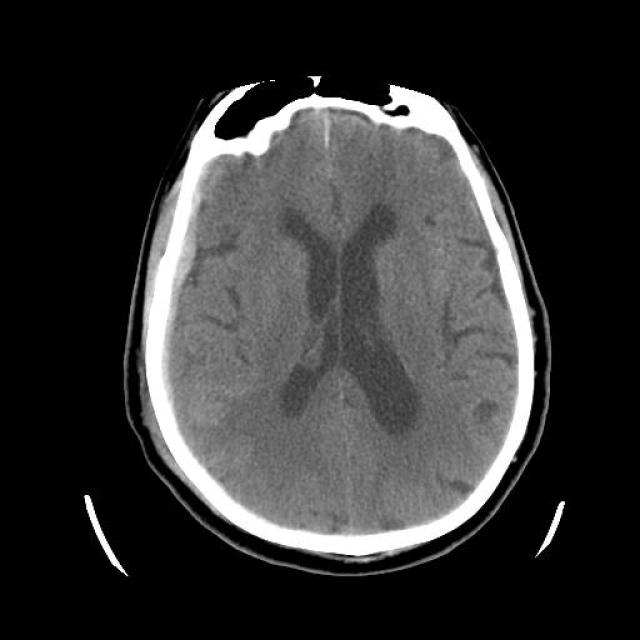Subdural: (141, 144, 235, 452)
